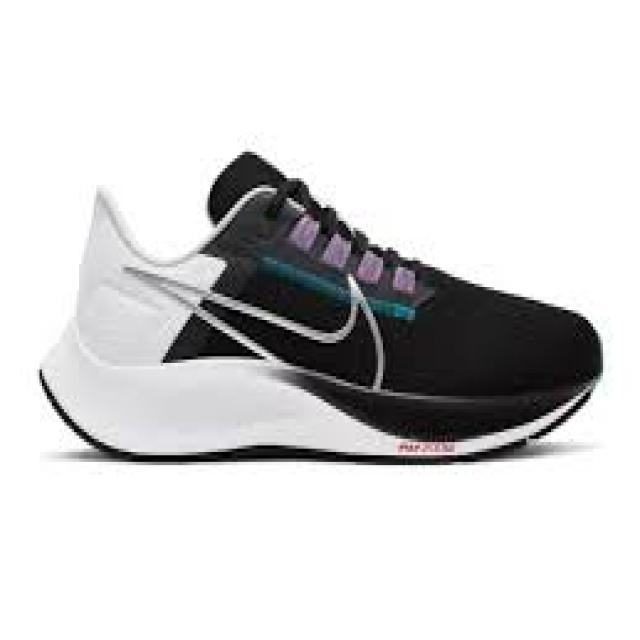shoes: (34, 149, 602, 467)
